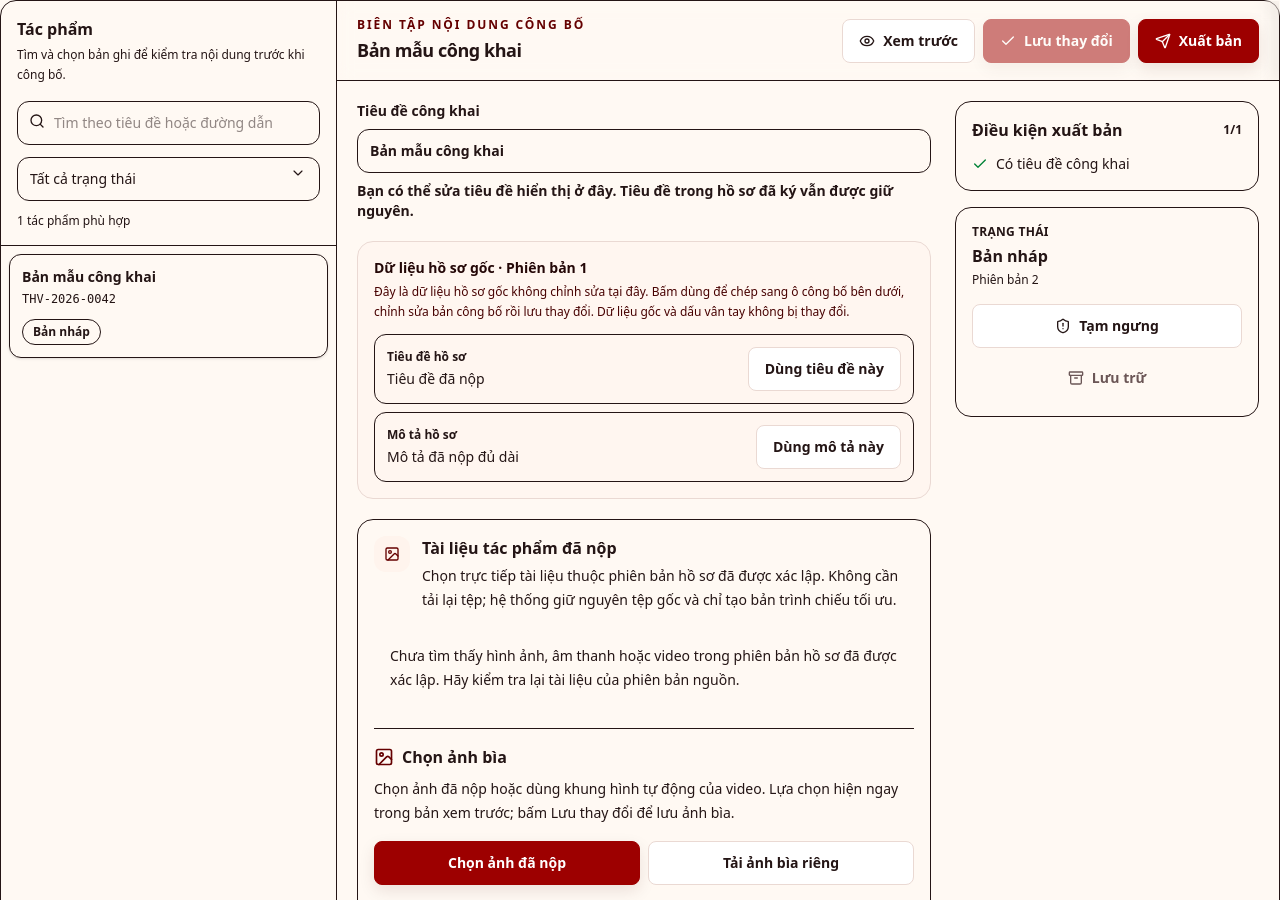
Scenario: PublicWorkEditor › masks legacy dossier codes and creates the first tag inline
Check: the text "THV-2026-0042" is shown, box [22,292,116,306]
Click the button "Bản mẫu công khai THV-2026-0042 Bản nháp". click: (89, 276)
box: [9,254,328,358]
(page scrolled)
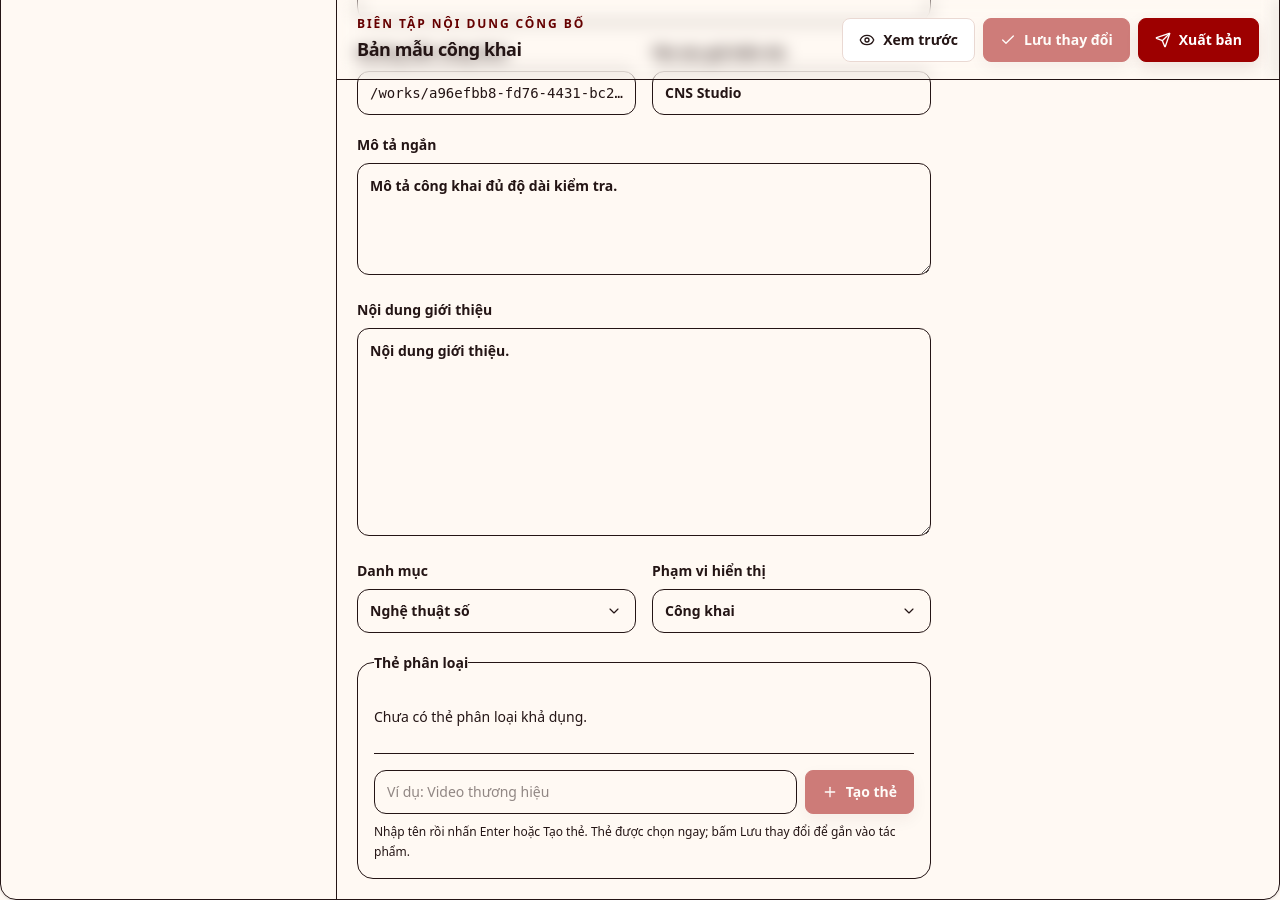
Type "Video thương hiệu" into the field named "Tên thẻ mới". click: (585, 792)
box: [374,770,797,814]
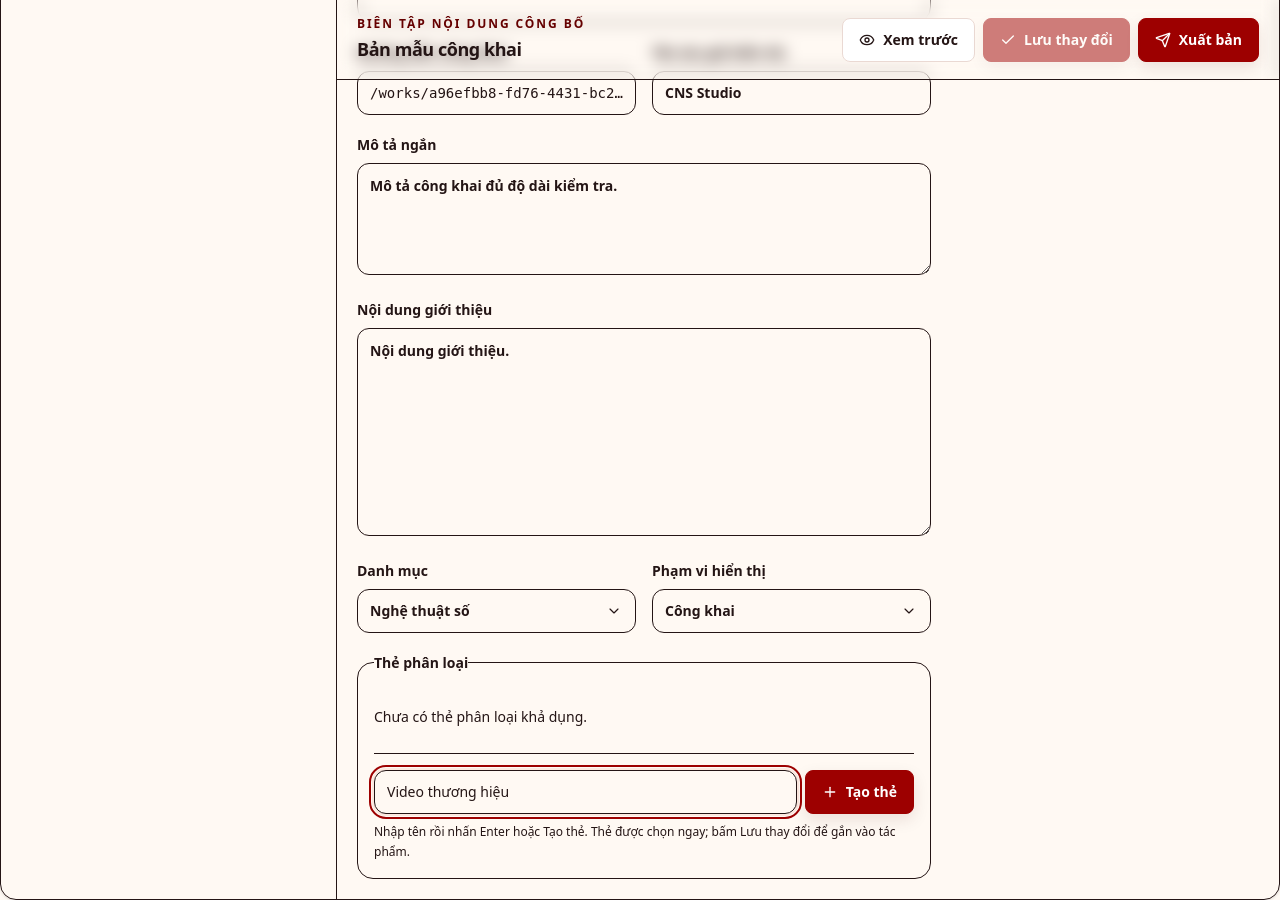
Click the button "Tạo thẻ". click: (859, 792)
box: [805,770,914,814]
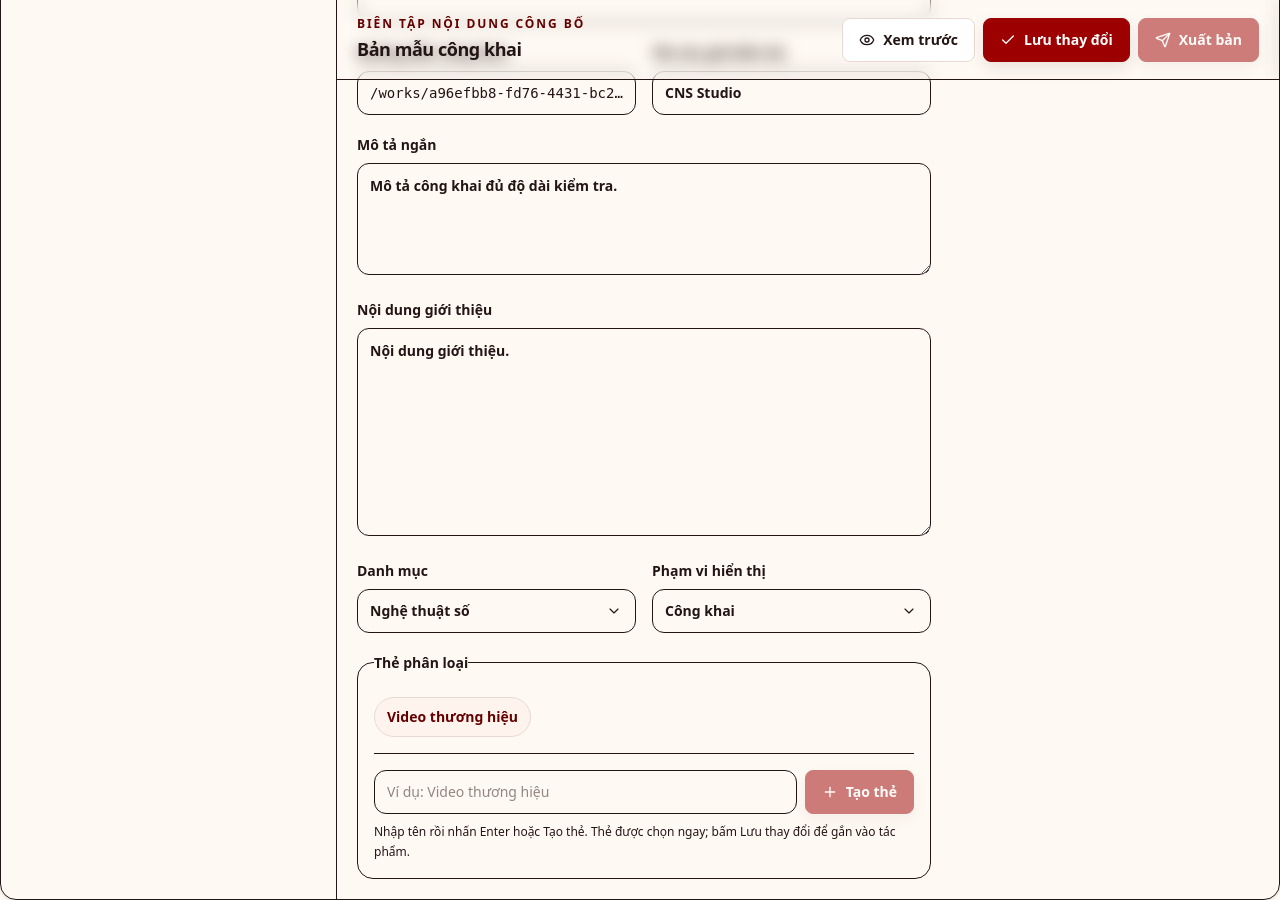
Check: the button "Video thương hiệu" is shown, box [374,697,531,737]
